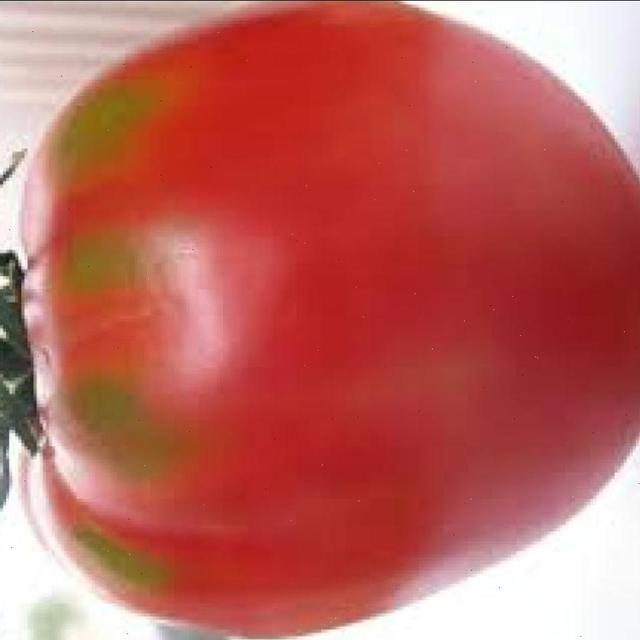Healthy Fruit: (12, 0, 426, 418)
